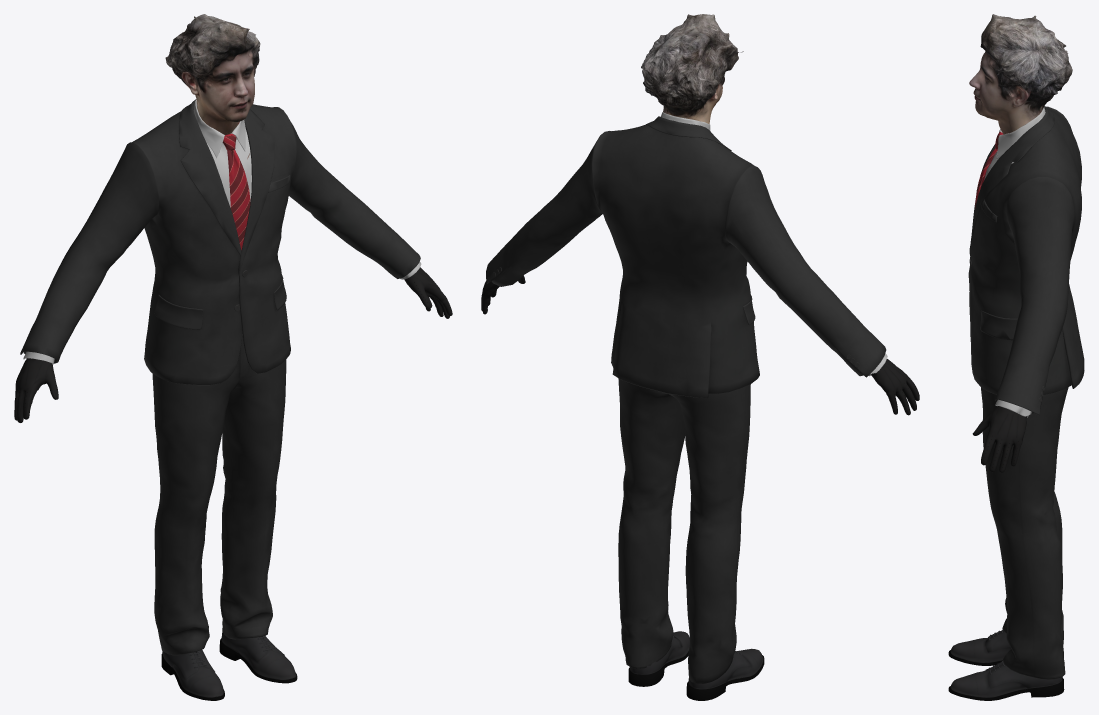
Rendered from EfraimBaruh-scan.glb.
The picture shows the model from 3 angles, left to right: view 1: azimuth 30°, elevation 25°; view 2: azimuth 150°, elevation 25°; view 3: azimuth 270°, elevation 25°; orthographic projection.
Parts seen in each view (by area): view 1: Object_8; view 2: Object_8; view 3: Object_8.
Part boxes in pixels (box(x1,y1,x2,y2)): Object_8: box(14, 14, 452, 700); Object_8: box(481, 14, 919, 700); Object_8: box(948, 14, 1084, 700).
Size of the model in its own units: 1.3 by 1.88 by 0.3543.
7 materials, 6 textured.
